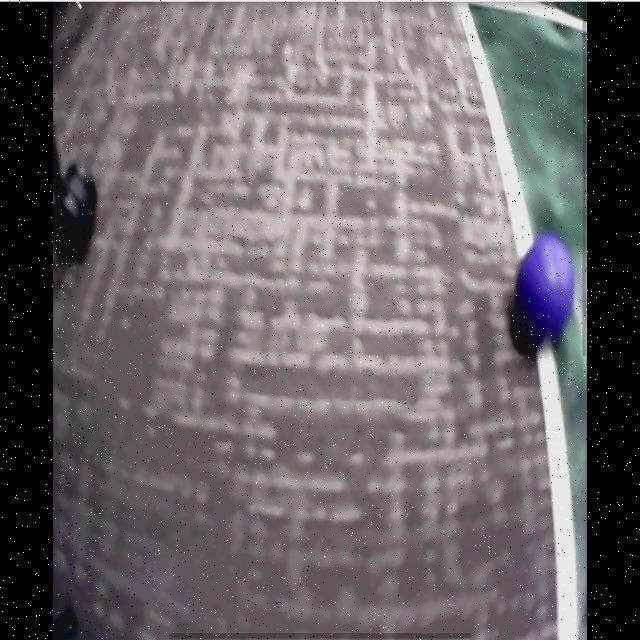ball: (519, 239, 574, 338)
